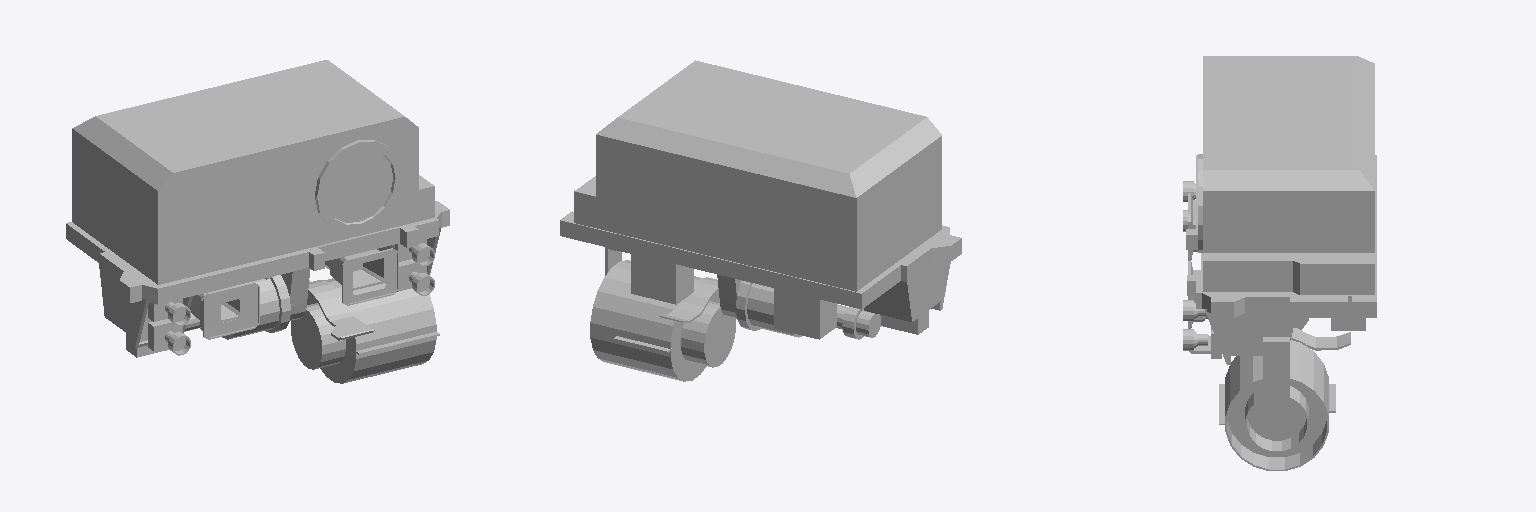
File: mastCamHead.obj
3 views of the same model, side by side, from view 1: azimuth 30°, elevation 25°; view 2: azimuth 150°, elevation 25°; view 3: azimuth 270°, elevation 25° (orthographic).
Visible parts, largest first — view 1: ChemCam_Mesh.026; view 2: ChemCam_Mesh.026; view 3: ChemCam_Mesh.026.
Part boxes in pixels (x1,y1,x2,y2): ChemCam_Mesh.026: (66, 60, 449, 383); ChemCam_Mesh.026: (560, 60, 961, 381); ChemCam_Mesh.026: (1183, 56, 1376, 470).
Bounding box in the file's own units: 0.55 × 0.4616 × 0.2875.